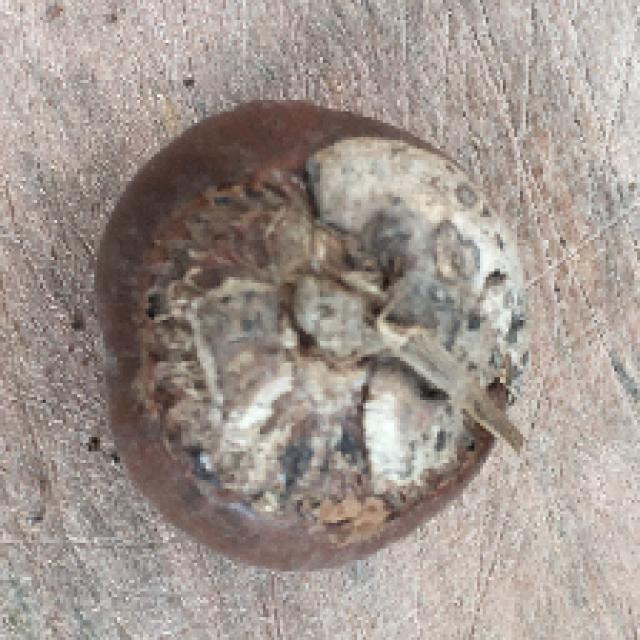DamagedHazelnut: (97, 94, 538, 573)
